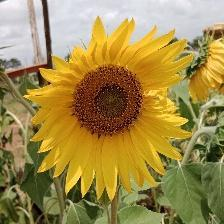sunflower: (22, 15, 198, 202)
